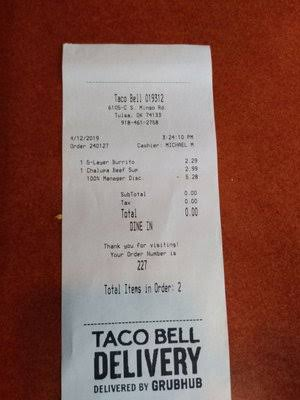Taco Bell: (110, 89, 144, 106)
